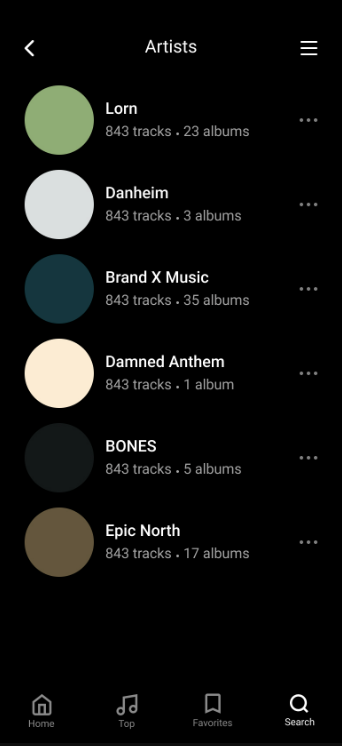BottomBar: (1, 687, 342, 746)
